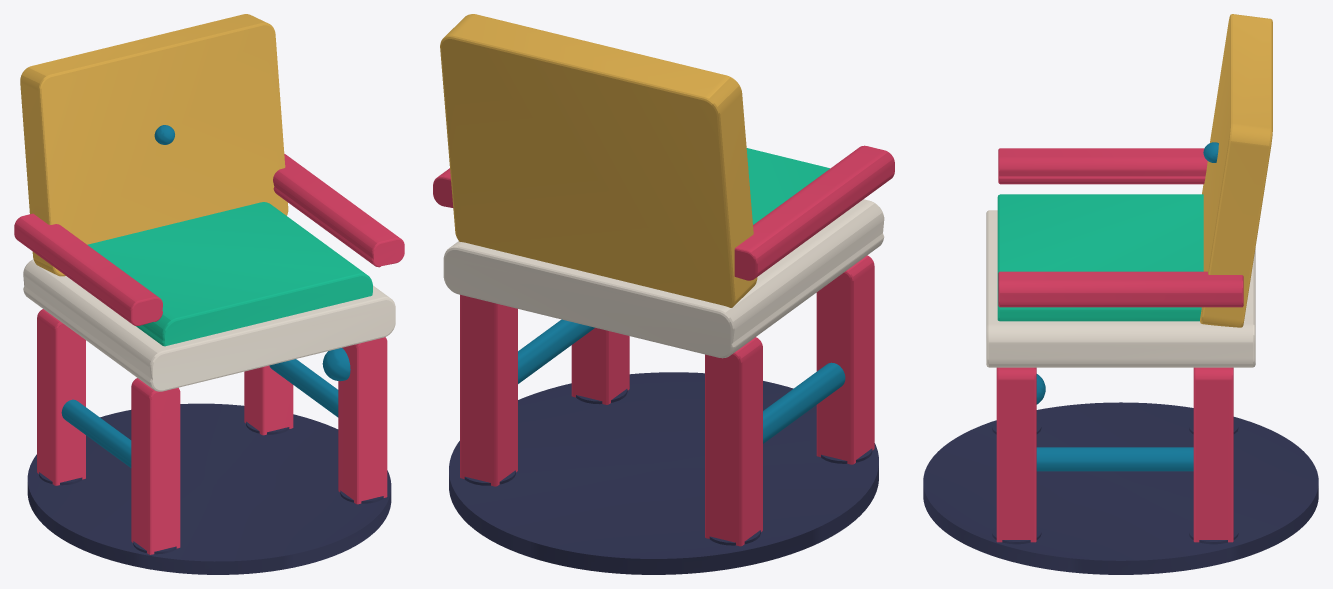
Rendered from 1340_城市运转图鉴_综合管廊.glb.
3 views of the same model, side by side, from view 1: azimuth 30°, elevation 25°; view 2: azimuth 150°, elevation 25°; view 3: azimuth 270°, elevation 25° (orthographic). The views are drawn at different scales.
Parts seen in each view (by area): view 1: card_1340; view 2: card_1340; view 3: card_1340.
Part boxes in pixels (x1,y1,x2,y2): card_1340: [14, 14, 404, 574]; card_1340: [433, 14, 894, 574]; card_1340: [923, 14, 1318, 574].
Bounding box in the file's own units: 0.7923 × 1 × 0.8363.
